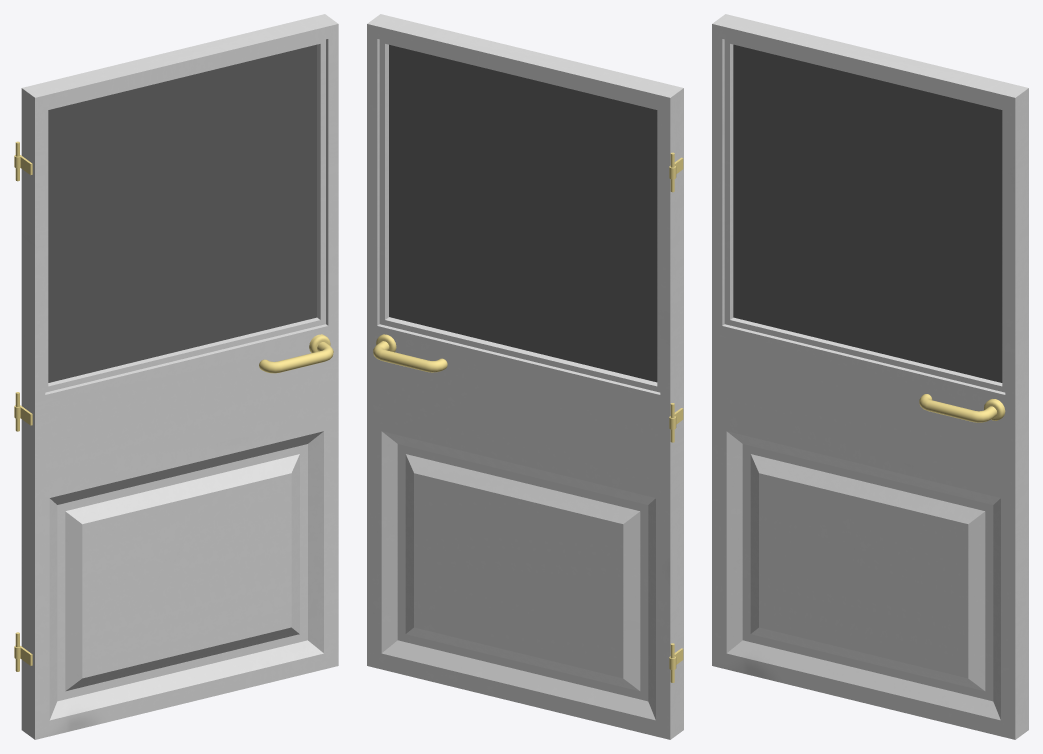
Rendered from ExteriorDoorComplete.fbx.
The picture shows the model from 3 angles, left to right: view 1: azimuth 30°, elevation 25°; view 2: azimuth 150°, elevation 25°; view 3: azimuth 330°, elevation 25°; orthographic projection.
Parts seen in each view (by area): view 1: ExteriorDoor.001, ExteriorDoor.003, ExteriorDoor, ExteriorDoor.002; view 2: ExteriorDoor.001, ExteriorDoor.003, ExteriorDoor, ExteriorDoor.002; view 3: ExteriorDoor.001, ExteriorDoor.003, ExteriorDoor.
Boxes of the visible parts, x1,y1,x2,y2 form: ExteriorDoor.001: (21, 14, 338, 739); ExteriorDoor.003: (48, 44, 316, 382); ExteriorDoor: (259, 334, 333, 373); ExteriorDoor.002: (14, 141, 32, 671); ExteriorDoor.001: (367, 14, 683, 739); ExteriorDoor.003: (389, 44, 657, 382); ExteriorDoor: (373, 334, 447, 372); ExteriorDoor.002: (669, 152, 683, 682); ExteriorDoor.001: (712, 14, 1028, 739); ExteriorDoor.003: (733, 44, 1002, 382); ExteriorDoor: (919, 394, 1005, 422).
Bounding box in the file's own units: 101 × 200 × 24.92.
4 materials, 4 textured.
